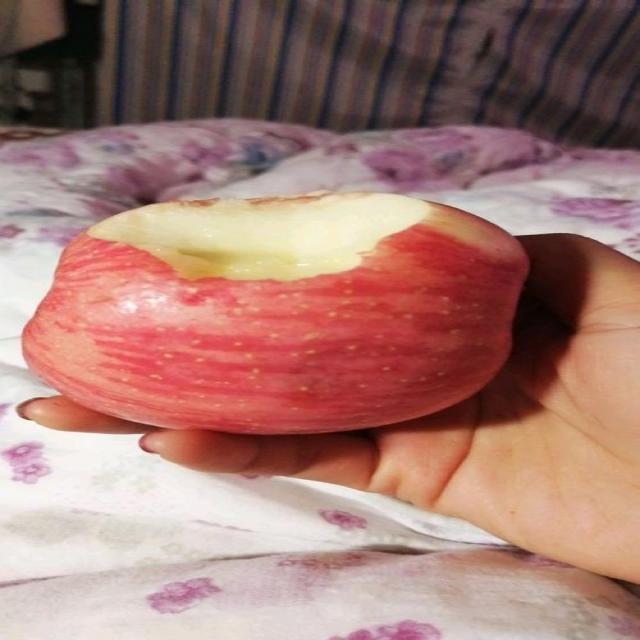Rotten: (29, 189, 528, 430)
